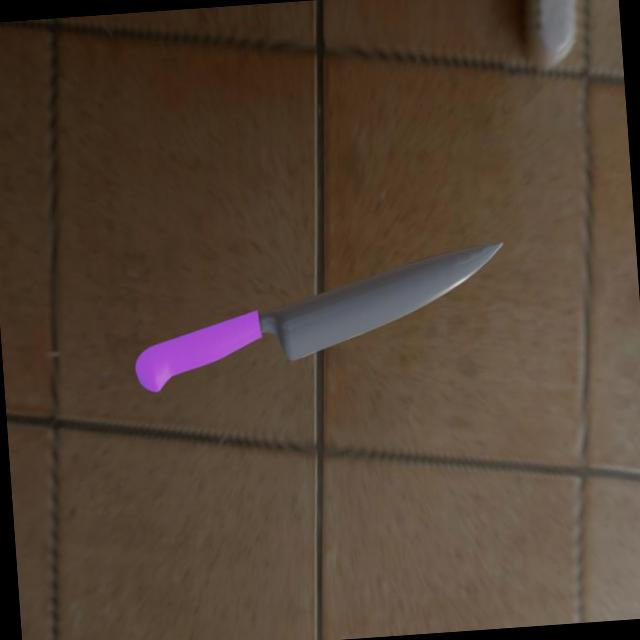knife: (130, 310, 268, 392)
